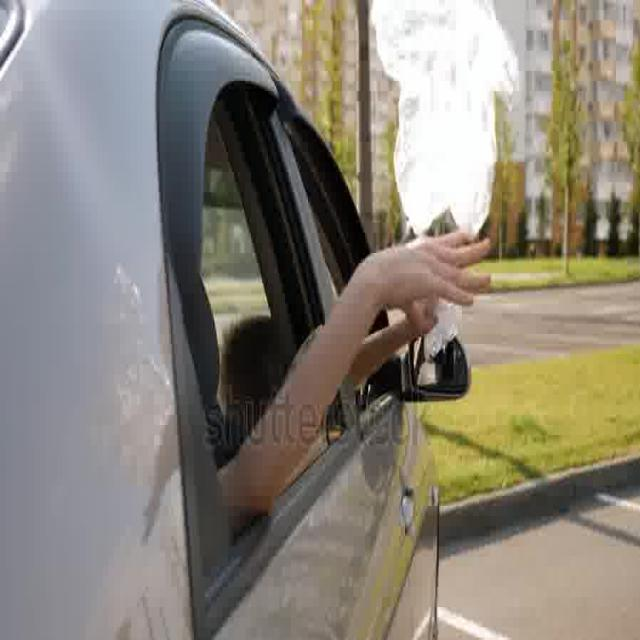garbage_dumping: (371, 0, 524, 238), (426, 284, 462, 370)
